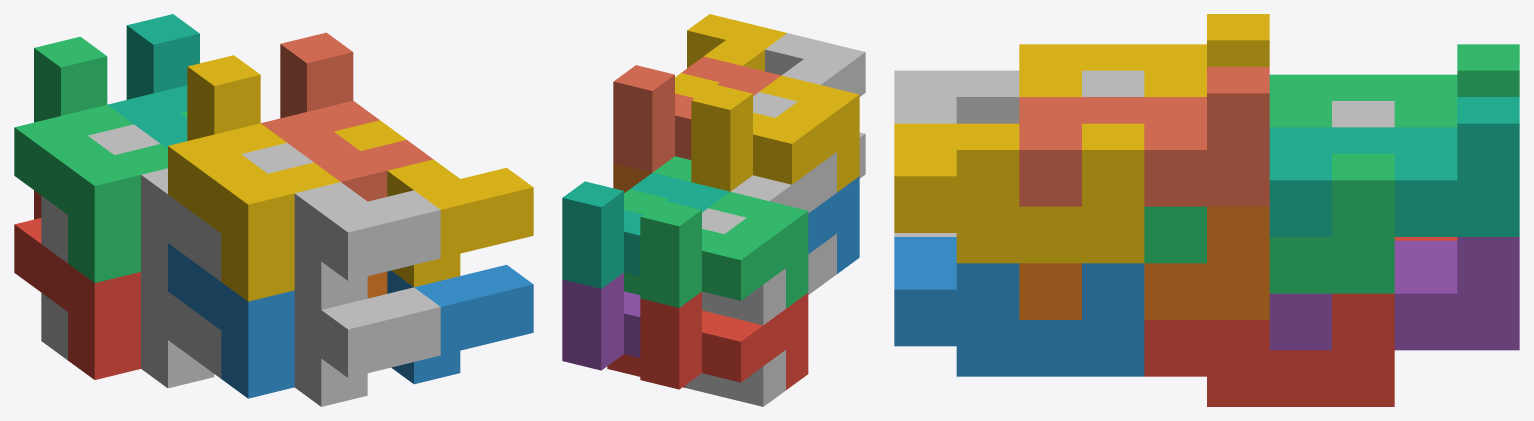
Rendered from tiling.obj.
The picture shows the model from 3 angles, left to right: view 1: azimuth 30°, elevation 25°; view 2: azimuth 150°, elevation 25°; view 3: azimuth 270°, elevation 25°; orthographic projection. The views are drawn at different scales.
Visible parts, largest first — view 1: copy_1_domain_4, copy_1_domain_3, copy_2_domain_4, copy_2_domain_2, copy_1_domain_8, copy_2_domain_8, copy_1_domain_1, copy_1_domain_2, copy_2_domain_6, copy_1_domain_7, copy_2_domain_3, copy_2_domain_1 (+1 smaller); view 2: copy_1_domain_4, copy_1_domain_3, copy_1_domain_1, copy_1_domain_7, copy_1_domain_8, copy_1_domain_5, copy_2_domain_4, copy_2_domain_3, copy_2_domain_8, copy_1_domain_2, copy_2_domain_1, copy_2_domain_7 (+3 smaller); view 3: copy_2_domain_8, copy_2_domain_6, copy_1_domain_7, copy_1_domain_8, copy_2_domain_5, copy_1_domain_5, copy_2_domain_7, copy_1_domain_6, copy_1_domain_3, copy_1_domain_4, copy_2_domain_4, copy_2_domain_3.
Boxes of the visible parts, x1=… form: copy_1_domain_4: x1=168, y1=55, x2=340, y2=301; copy_1_domain_3: x1=14, y1=36, x2=167, y2=282; copy_2_domain_4: x1=194, y1=143, x2=440, y2=309; copy_2_domain_2: x1=194, y1=287, x2=440, y2=406; copy_1_domain_8: x1=261, y1=32, x2=433, y2=201; copy_2_domain_8: x1=334, y1=120, x2=533, y2=287; copy_1_domain_1: x1=14, y1=190, x2=140, y2=379; copy_1_domain_2: x1=168, y1=243, x2=294, y2=398; copy_2_domain_6: x1=387, y1=264, x2=533, y2=384; copy_1_domain_7: x1=107, y1=14, x2=199, y2=148; copy_2_domain_3: x1=41, y1=124, x2=194, y2=290; copy_2_domain_1: x1=41, y1=272, x2=214, y2=388; copy_1_domain_4: x1=691, y1=75, x2=859, y2=192; copy_1_domain_3: x1=640, y1=192, x2=808, y2=308; copy_1_domain_1: x1=640, y1=292, x2=808, y2=389; copy_1_domain_7: x1=562, y1=172, x2=729, y2=288; copy_1_domain_8: x1=613, y1=56, x2=781, y2=172; copy_1_domain_5: x1=562, y1=272, x2=640, y2=370; copy_2_domain_4: x1=753, y1=33, x2=865, y2=208; copy_2_domain_3: x1=702, y1=168, x2=814, y2=325; copy_2_domain_8: x1=675, y1=14, x2=786, y2=98; copy_1_domain_2: x1=808, y1=176, x2=859, y2=273; copy_2_domain_1: x1=685, y1=250, x2=814, y2=406; copy_2_domain_7: x1=624, y1=156, x2=691, y2=294; copy_2_domain_8: x1=894, y1=123, x2=1144, y2=263; copy_2_domain_6: x1=894, y1=237, x2=1144, y2=376; copy_1_domain_7: x1=1269, y1=97, x2=1519, y2=236; copy_1_domain_8: x1=1019, y1=67, x2=1269, y2=206; copy_2_domain_5: x1=1144, y1=293, x2=1394, y2=406; copy_1_domain_5: x1=1269, y1=237, x2=1519, y2=350; copy_2_domain_7: x1=1144, y1=153, x2=1394, y2=293; copy_1_domain_6: x1=1019, y1=206, x2=1269, y2=319; copy_1_domain_3: x1=1269, y1=44, x2=1519, y2=127; copy_1_domain_4: x1=1019, y1=14, x2=1269, y2=96; copy_2_domain_4: x1=894, y1=70, x2=1144, y2=123; copy_2_domain_3: x1=1332, y1=101, x2=1394, y2=127.
Bounding box in the file's own units: 6 × 6 × 10.
